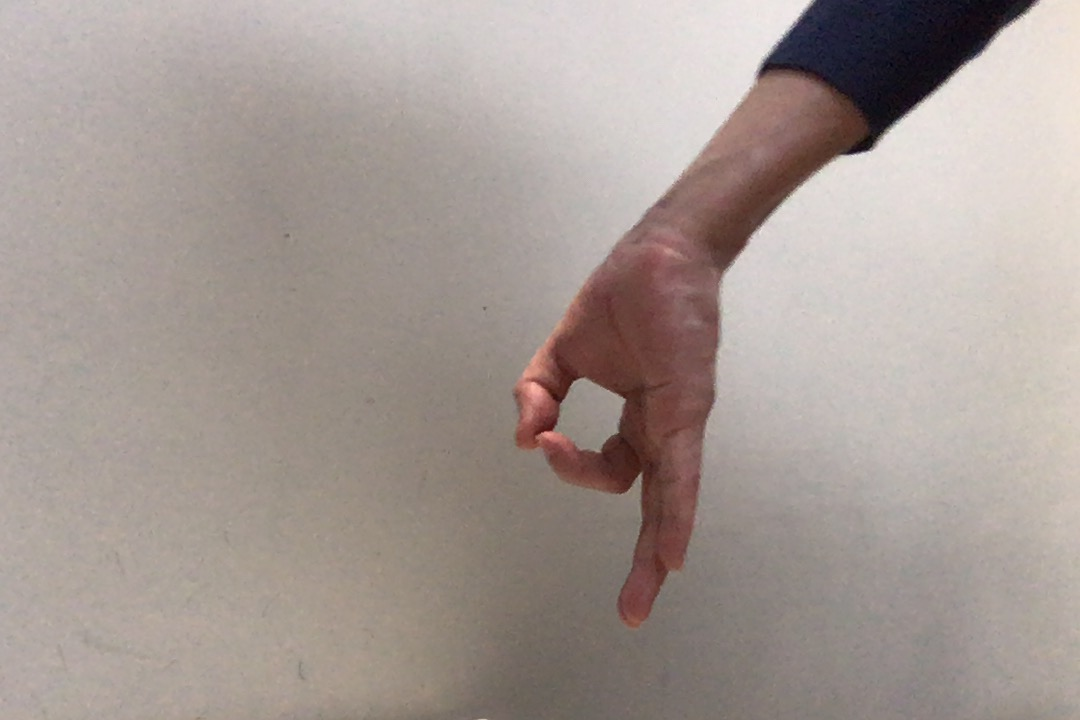oksign: (507, 230, 730, 637)
